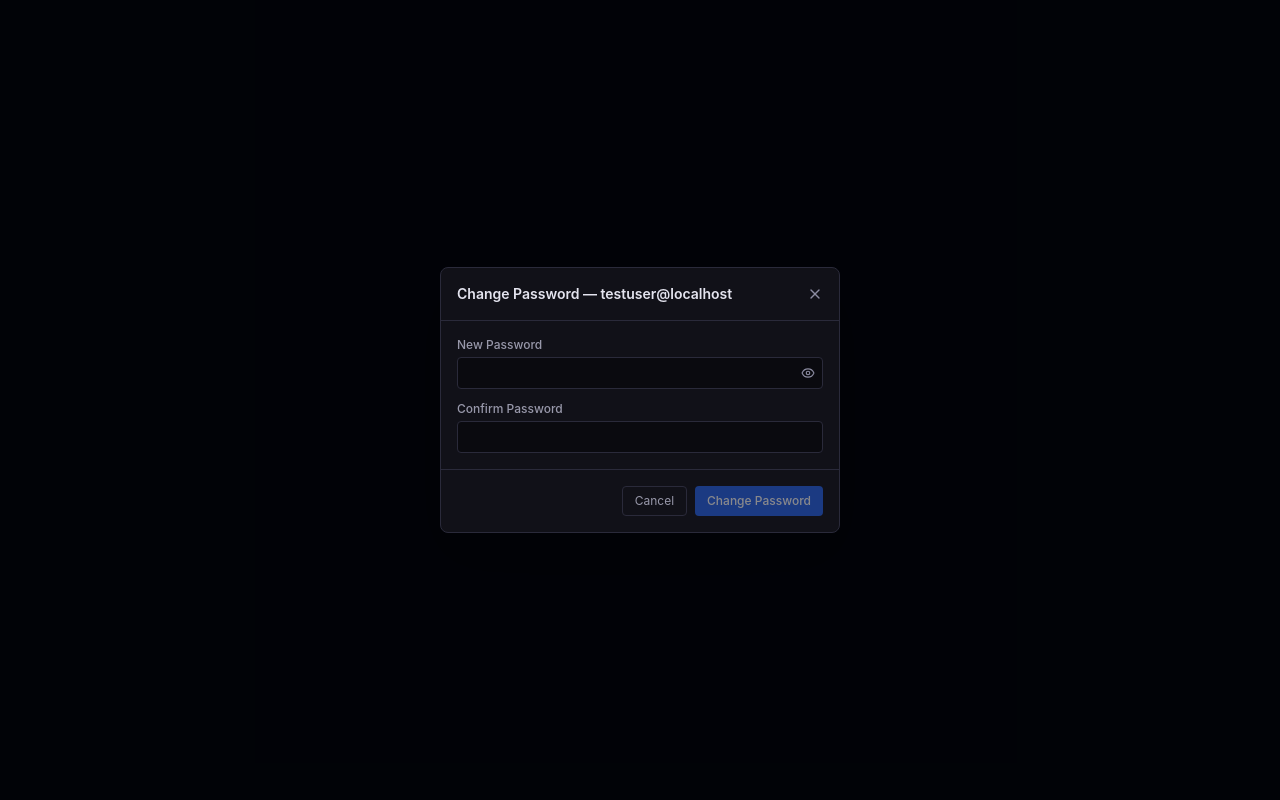
Test case: ChangePasswordDialog › shows 'Passwords do not match' when confirm differs
Step 1. Type "mypass" into the password field below "New Password" → (640, 373), box [457,357,823,389]
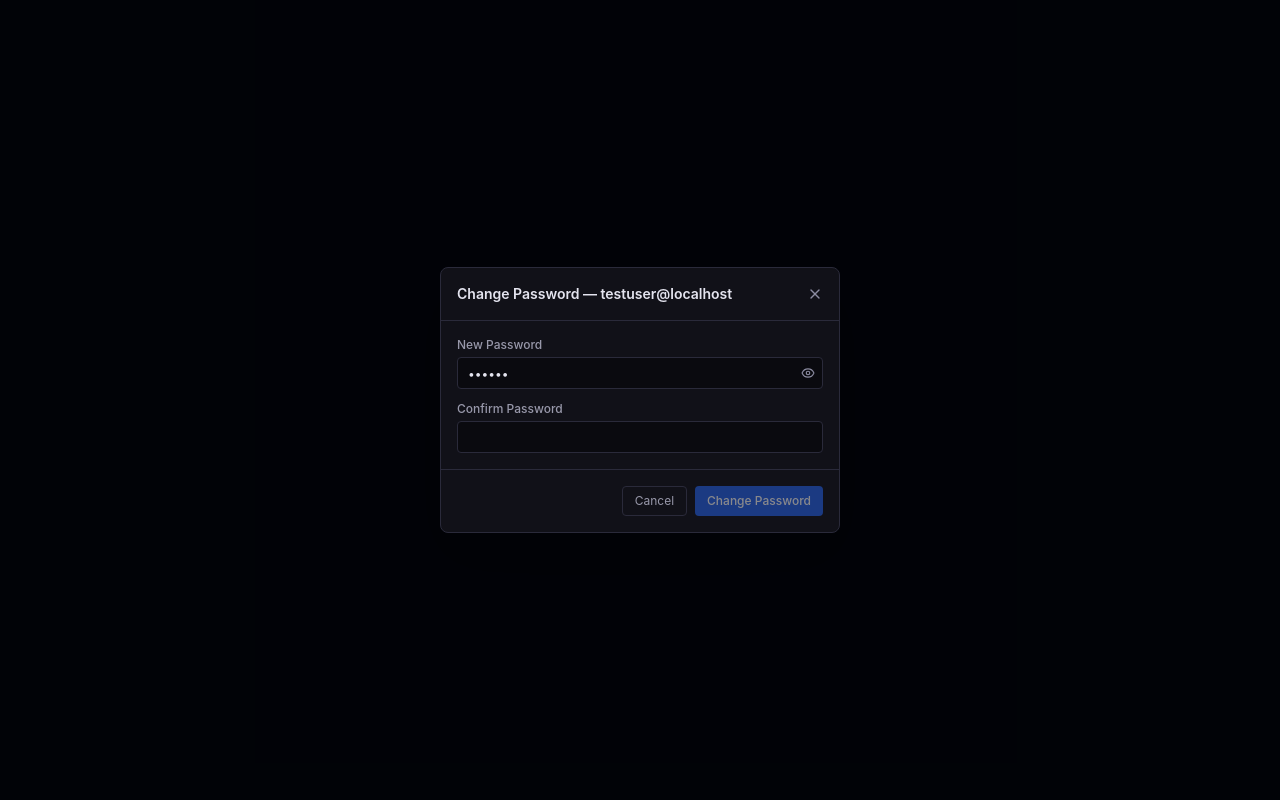
Step 2. Type "otherpass" into the password field below "Confirm Password" → (640, 437), box [457,421,823,453]
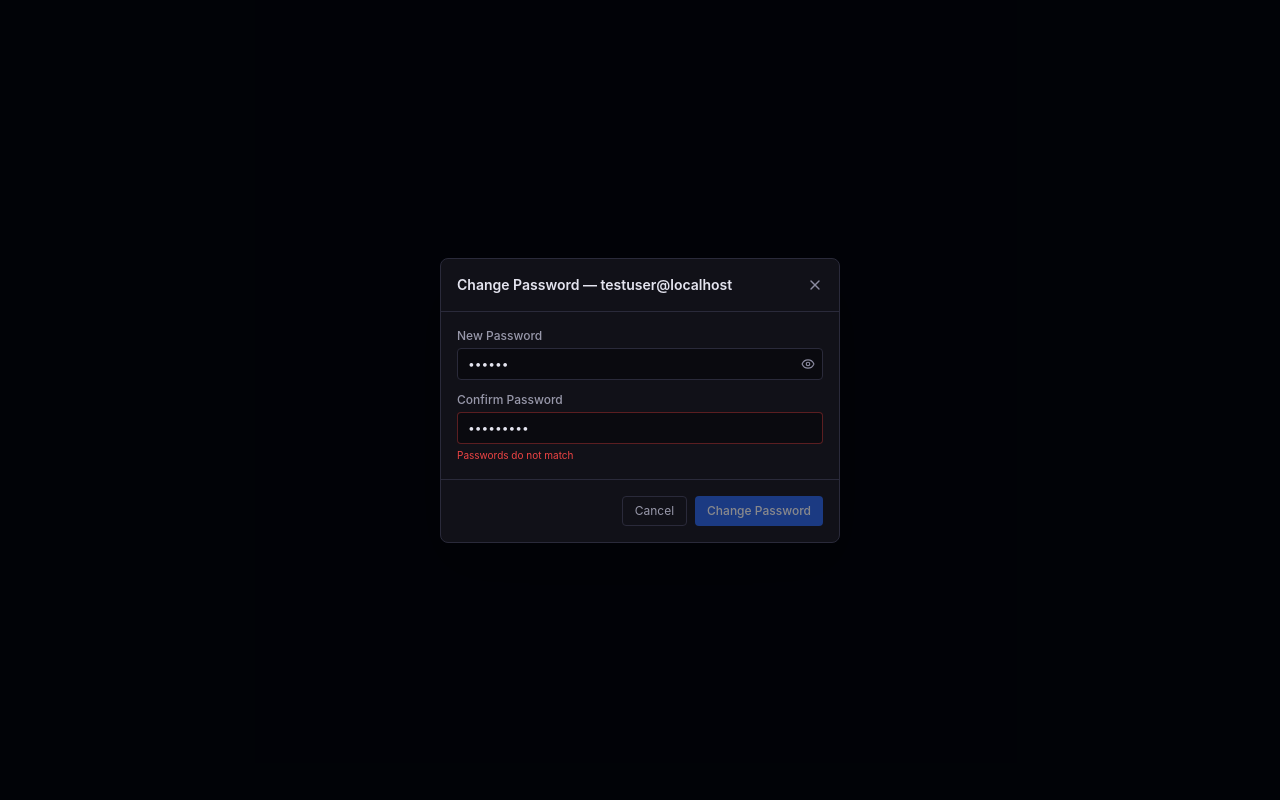
Expected: the text "Passwords do not match" is shown, [457,448,574,460]
